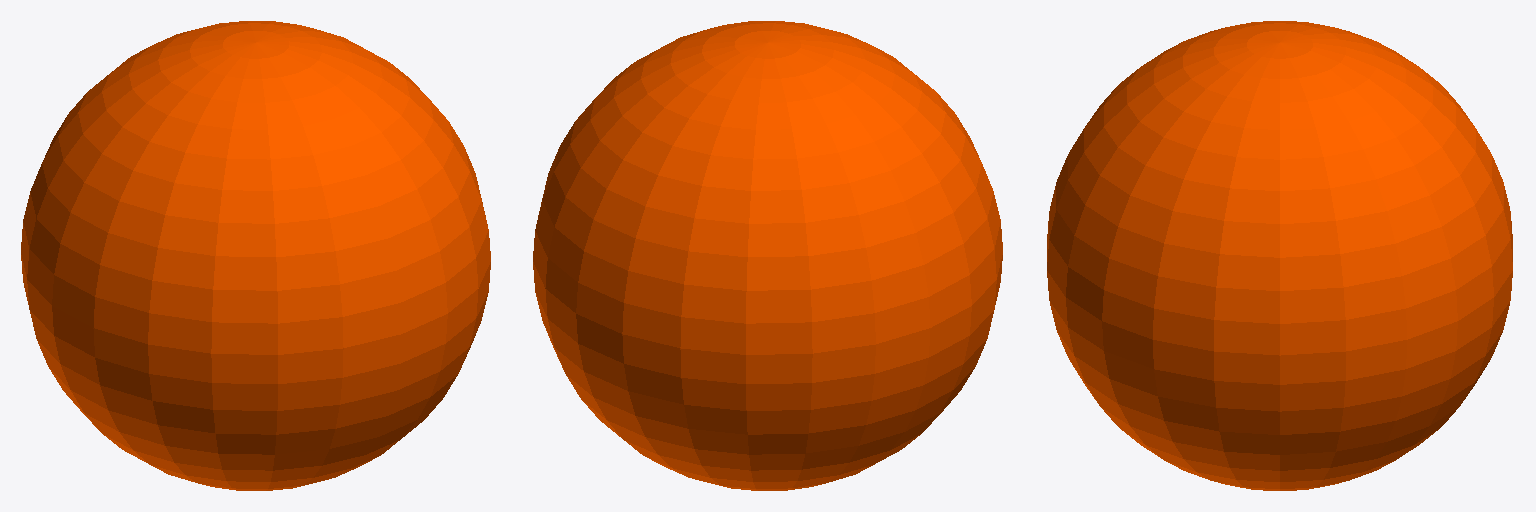
Rendered from sphere_pink.obj.
3 renders of one model, left to right at view 1: azimuth 30°, elevation 25°; view 2: azimuth 150°, elevation 25°; view 3: azimuth 270°, elevation 25°, orthographic.
Parts seen in each view (by area): view 1: Sphere; view 2: Sphere; view 3: Sphere.
Boxes of the visible parts, box(x1,y1,x2,y2) form: Sphere: box(21, 21, 490, 490); Sphere: box(533, 21, 1002, 490); Sphere: box(1047, 21, 1512, 490).
Bounding box in the file's own units: 2 × 2 × 1.98.